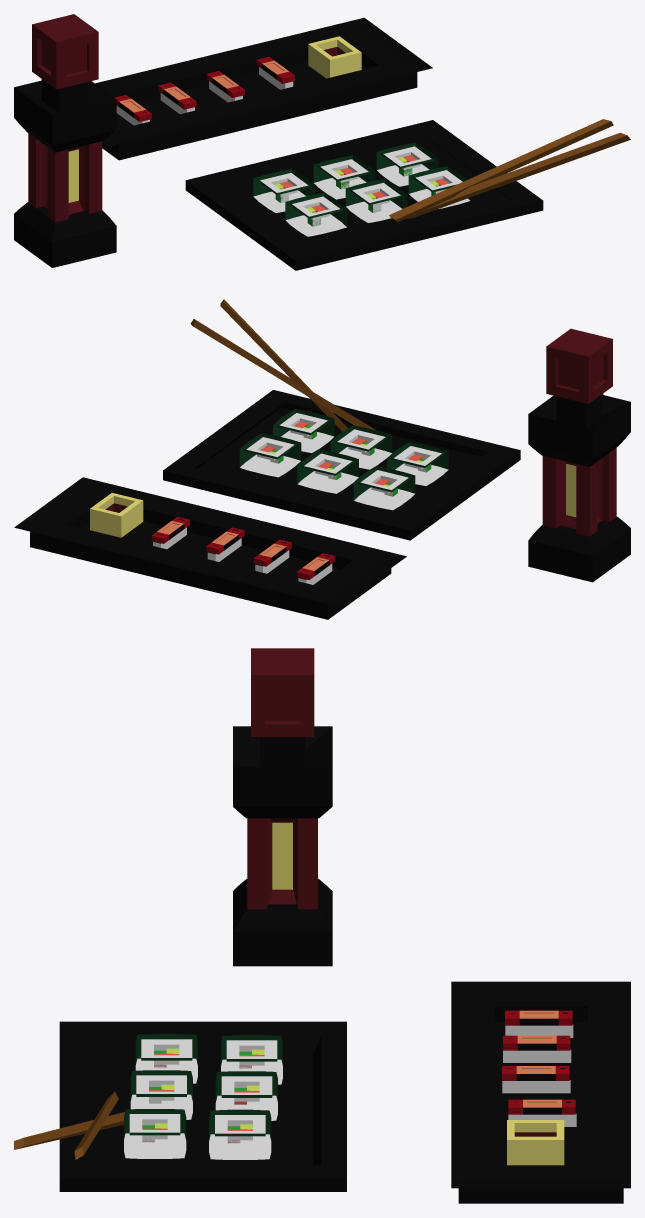
Rendered from SushiSticks.glb.
The picture shows the model from 3 angles, top to bottom: view 1: azimuth 30°, elevation 25°; view 2: azimuth 150°, elevation 25°; view 3: azimuth 270°, elevation 25°; orthographic projection. The views are drawn at different scales.
Visible parts, largest first — view 1: Table.candle, Sushi.plate, Stick.two, Stick.two.001, Sushi, Sushi.002, Sushi.003, Sushi.005, Sushi.001, Sushi.004; view 2: Table.candle, Sushi.plate, Sushi.001, Sushi.005, Sushi.003, Sushi.002, Sushi, Sushi.004, Stick.two, Stick.two.001; view 3: Table.candle, Sushi.plate, Sushi.005, Sushi.004, Sushi.002, Sushi.003, Sushi, Sushi.001, Stick.two.001, Stick.two.
Boxes of the visible parts, x1=… form: Table.candle: x1=14, y1=14, x2=432, y2=267; Sushi.plate: x1=185, y1=120, x2=543, y2=270; Stick.two: x1=389, y1=119, x2=613, y2=221; Stick.two.001: x1=405, y1=132, x2=630, y2=219; Sushi: x1=285, y1=192, x2=346, y2=236; Sushi.002: x1=345, y1=179, x2=407, y2=222; Sushi.003: x1=313, y1=155, x2=375, y2=199; Sushi.005: x1=376, y1=142, x2=438, y2=186; Sushi.001: x1=253, y1=169, x2=314, y2=212; Sushi.004: x1=408, y1=166, x2=470, y2=208; Table.candle: x1=14, y1=328, x2=630, y2=619; Sushi.plate: x1=163, y1=390, x2=520, y2=540; Sushi.001: x1=353, y1=466, x2=415, y2=510; Sushi.005: x1=239, y1=433, x2=301, y2=477; Sushi.003: x1=297, y1=449, x2=358, y2=493; Sushi.002: x1=330, y1=425, x2=392, y2=469; Sushi: x1=387, y1=442, x2=448, y2=485; Sushi.004: x1=273, y1=409, x2=334, y2=452; Stick.two: x1=190, y1=319, x2=375, y2=429; Stick.two.001: x1=220, y1=299, x2=347, y2=431; Table.candle: x1=233, y1=648, x2=630, y2=1203; Sushi.plate: x1=59, y1=1021, x2=346, y2=1191; Sushi.005: x1=209, y1=1109, x2=271, y2=1159; Sushi.004: x1=124, y1=1109, x2=186, y2=1158; Sushi.002: x1=130, y1=1070, x2=192, y2=1119; Sushi.003: x1=215, y1=1071, x2=277, y2=1120; Sushi: x1=135, y1=1034, x2=197, y2=1083; Sushi.001: x1=221, y1=1035, x2=282, y2=1084; Stick.two.001: x1=14, y1=1112, x2=124, y2=1149; Stick.two: x1=74, y1=1091, x2=118, y2=1159.
Bounding box in the file's own units: 22.16 × 9.24 × 18.12.
